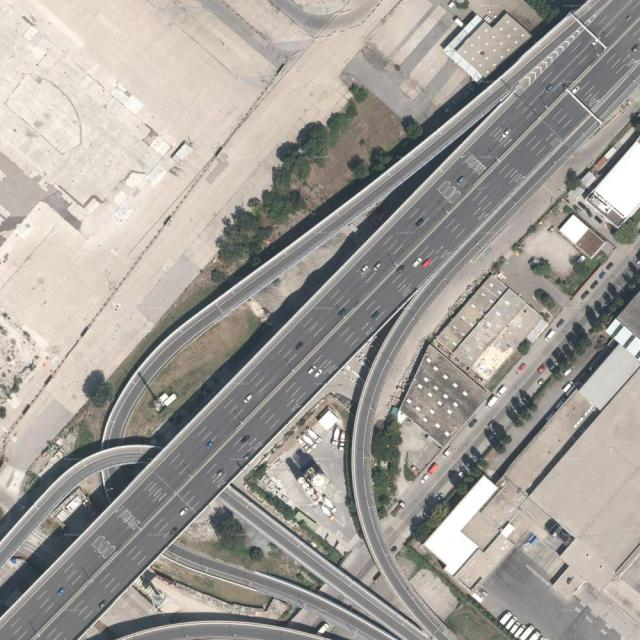building: (384, 343, 489, 447), (419, 475, 517, 577), (503, 389, 597, 492), (452, 288, 526, 368), (470, 304, 544, 382), (435, 274, 507, 353), (282, 446, 348, 524), (506, 514, 571, 582), (577, 343, 640, 411), (454, 528, 516, 593), (513, 530, 566, 582), (480, 479, 530, 530), (500, 507, 550, 557), (556, 212, 607, 260), (461, 510, 503, 551), (536, 516, 576, 556), (557, 213, 590, 246), (316, 409, 339, 432)
dryland: (256, 430, 389, 557), (254, 224, 361, 317), (150, 555, 271, 616), (308, 436, 375, 540), (143, 577, 227, 637), (406, 564, 464, 622)
greenland: (203, 73, 381, 283), (537, 257, 640, 381), (400, 448, 490, 545), (342, 112, 429, 188), (365, 413, 405, 519), (550, 239, 609, 299), (202, 502, 251, 555), (76, 366, 119, 411), (499, 388, 540, 429), (525, 1, 585, 24), (480, 417, 514, 455), (611, 208, 640, 250), (73, 423, 99, 453)
metalled_road: (79, 1, 583, 449), (162, 533, 401, 640), (363, 450, 453, 553), (116, 620, 330, 639), (87, 582, 155, 633), (339, 539, 386, 585), (559, 607, 621, 639), (288, 606, 321, 637), (525, 366, 529, 369)
